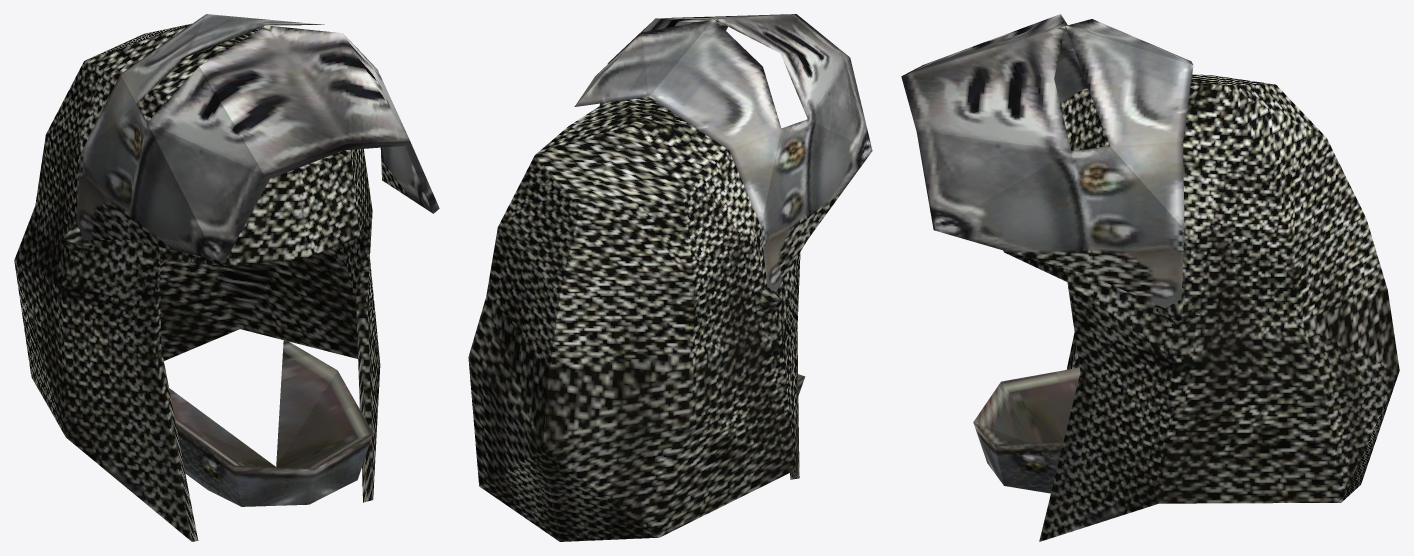
Rendered from Armor_PAL_H.glb.
The picture shows the model from 3 angles, left to right: view 1: azimuth 30°, elevation 25°; view 2: azimuth 150°, elevation 25°; view 3: azimuth 270°, elevation 25°; orthographic projection. The views are drawn at different scales.
Visible parts, largest first — view 1: Armor_PAL_Hzm_Helm; view 2: Armor_PAL_Hzm_Helm; view 3: Armor_PAL_Hzm_Helm.
Boxes of the visible parts, bbox=[...] form: Armor_PAL_Hzm_Helm: bbox=[14, 14, 439, 541]; Armor_PAL_Hzm_Helm: bbox=[468, 14, 872, 541]; Armor_PAL_Hzm_Helm: bbox=[901, 14, 1399, 541].
Bounding box in the file's own units: 0.2489 × 0.3809 × 0.3612.
1 material, 1 textured.
